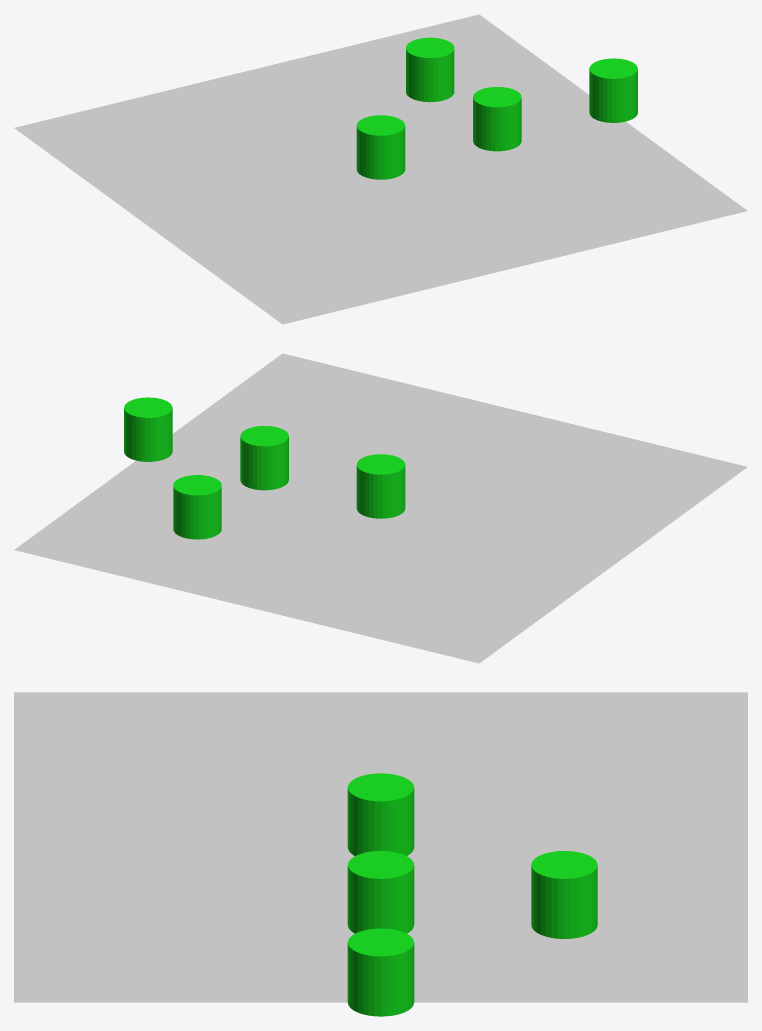
The model's file is spot_one.glb.
The picture shows the model from 3 angles, top to bottom: view 1: azimuth 30°, elevation 25°; view 2: azimuth 150°, elevation 25°; view 3: azimuth 270°, elevation 25°; orthographic projection. The views are drawn at different scales.
Visible parts, largest first — view 1: Plane, Cylinder, Cylinder.003, Cylinder.002, Cylinder.001; view 2: Plane, Cylinder, Cylinder.003, Cylinder.001, Cylinder.002; view 3: Plane, Cylinder.003, Cylinder.002, Cylinder, Cylinder.001.
Boxes of the visible parts, bbox=[...] form: Plane: bbox=[14, 14, 747, 324]; Cylinder: bbox=[356, 115, 405, 179]; Cylinder.003: bbox=[589, 58, 637, 122]; Cylinder.002: bbox=[406, 37, 454, 102]; Cylinder.001: bbox=[473, 87, 521, 151]; Plane: bbox=[14, 353, 747, 663]; Cylinder: bbox=[356, 454, 405, 518]; Cylinder.003: bbox=[124, 397, 172, 461]; Cylinder.001: bbox=[240, 426, 288, 490]; Cylinder.002: bbox=[173, 475, 221, 539]; Plane: bbox=[14, 692, 747, 1002]; Cylinder.003: bbox=[347, 928, 414, 1016]; Cylinder.002: bbox=[531, 851, 597, 938]; Cylinder: bbox=[347, 773, 414, 855]; Cylinder.001: bbox=[347, 851, 414, 933].
Bounding box in the file's own units: 2.09 × 0.1808 × 2.
